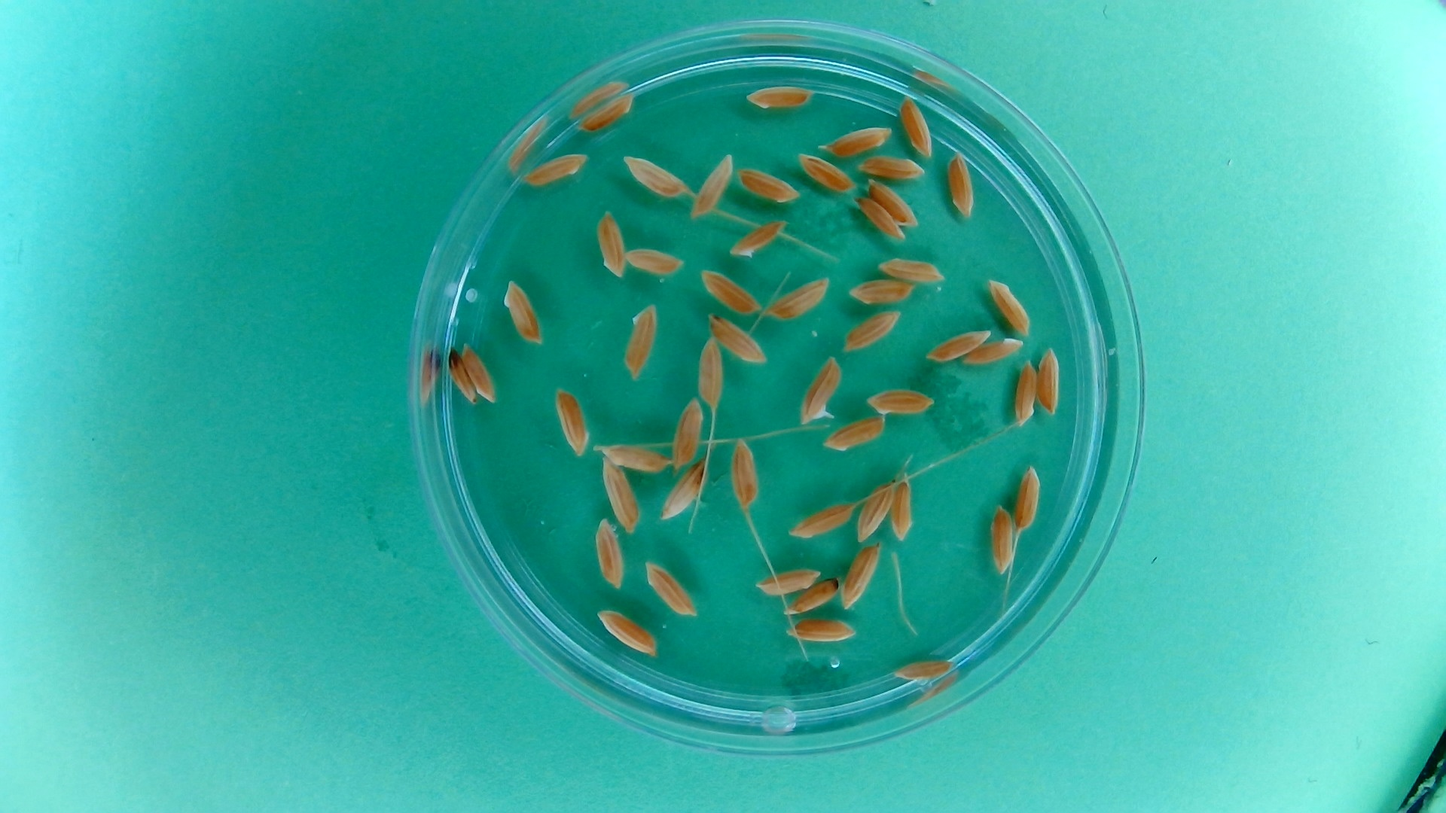no: (658, 457, 709, 525), (706, 312, 769, 367), (595, 606, 660, 659), (642, 558, 698, 619), (621, 153, 691, 201), (599, 457, 642, 534), (690, 151, 736, 221), (501, 275, 545, 348), (764, 275, 830, 323), (697, 266, 761, 315), (620, 301, 659, 381), (840, 540, 883, 610), (593, 440, 673, 477), (866, 175, 921, 228), (853, 478, 897, 544), (840, 307, 903, 353), (551, 384, 590, 458), (668, 394, 705, 471), (785, 500, 856, 540), (796, 151, 859, 196), (987, 276, 1033, 336), (575, 91, 638, 134), (521, 150, 592, 188), (819, 123, 895, 158), (736, 166, 802, 206), (591, 516, 626, 591), (459, 340, 499, 405), (821, 415, 889, 452), (897, 93, 935, 159), (853, 195, 906, 242), (593, 206, 627, 279), (782, 576, 841, 618), (728, 435, 761, 510), (924, 327, 992, 363), (728, 218, 786, 259), (945, 149, 978, 221), (752, 565, 825, 597), (742, 81, 817, 112), (694, 333, 725, 408), (864, 385, 936, 417), (987, 503, 1017, 577), (1013, 463, 1043, 535), (785, 617, 858, 646), (875, 255, 948, 284), (962, 335, 1026, 367), (846, 277, 916, 306), (622, 245, 685, 277), (1036, 344, 1063, 416), (1011, 358, 1038, 428), (445, 347, 477, 406), (889, 477, 916, 544), (890, 655, 956, 682)
yes: (796, 355, 843, 427)
